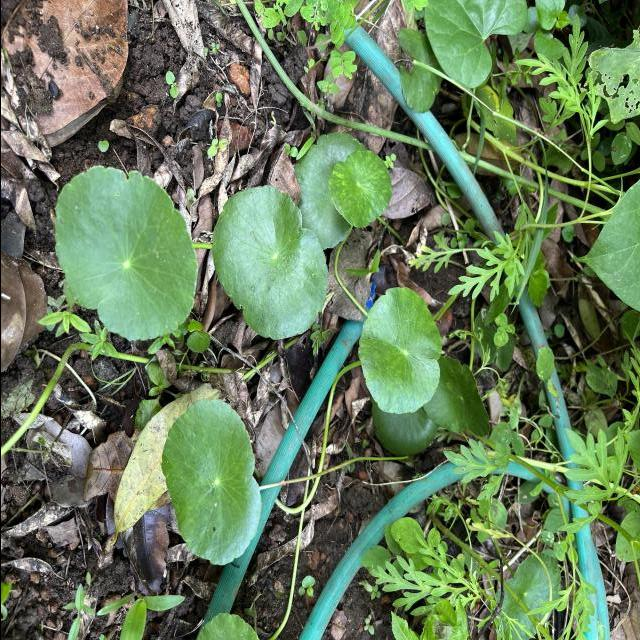Bacopa monnieri: (50, 162, 200, 344), (208, 182, 330, 342), (158, 396, 264, 568), (356, 284, 444, 415), (325, 148, 395, 230)
